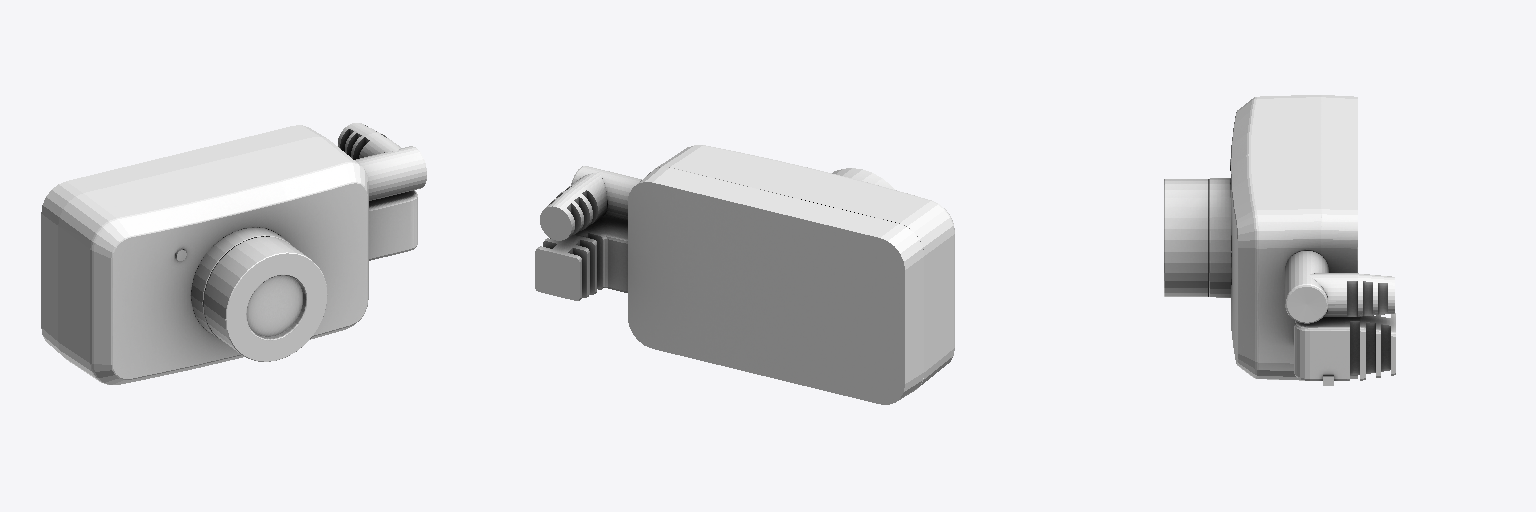
The picture shows the model from 3 angles: view 1: azimuth 30°, elevation 25°; view 2: azimuth 150°, elevation 25°; view 3: azimuth 270°, elevation 25°; orthographic projection.
Visible parts, largest first — view 1: dk2_camera_mesh; view 2: dk2_camera_mesh; view 3: dk2_camera_mesh.
Boxes of the visible parts, x1=… form: dk2_camera_mesh: x1=41, y1=123, x2=426, y2=384; dk2_camera_mesh: x1=535, y1=145, x2=954, y2=404; dk2_camera_mesh: x1=1164, y1=95, x2=1395, y2=385.
Bounding box in the file's own units: 0.0713 × 0.0326 × 0.0405.
1 materials, 1 textured.